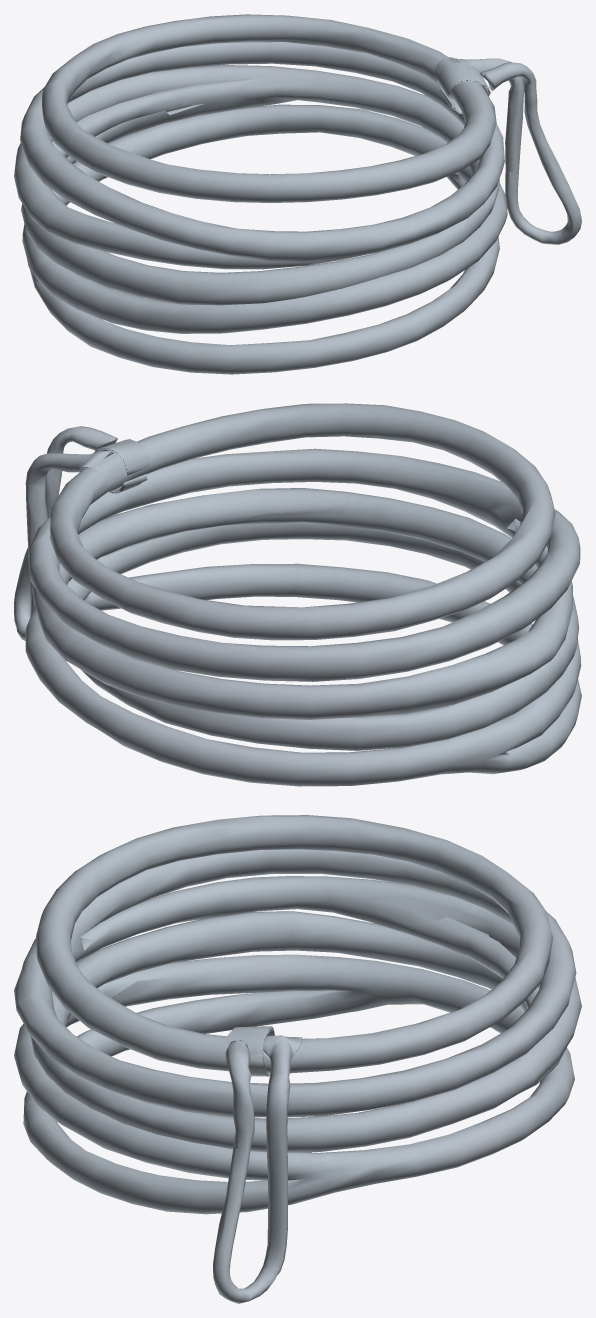
Rendered from coil-spring.glb.
3 views of the same model, one above another, from view 1: azimuth 30°, elevation 25°; view 2: azimuth 150°, elevation 25°; view 3: azimuth 270°, elevation 25° (orthographic). The views are drawn at different scales.
Size of the model in its own units: 0.9458 by 0.3657 by 0.7964.
Materials: 1 (1 with a texture image).
